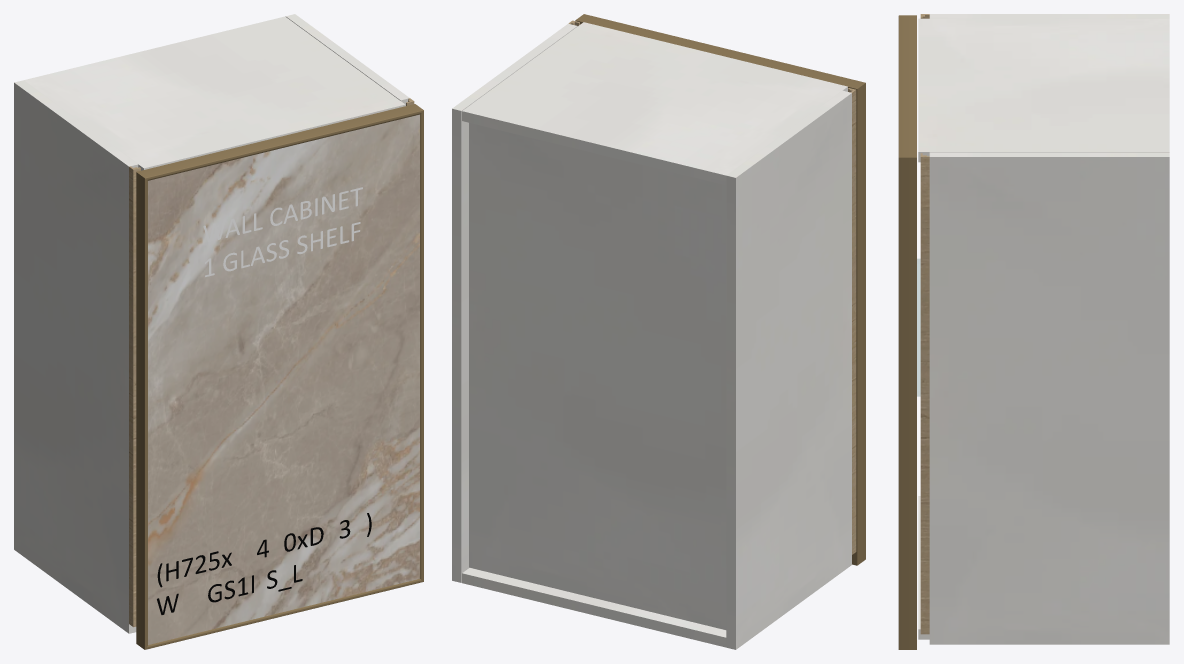
The model's file is WC-SH-NHX-ST-1SG-LHS-XXX-450-725-336-15.glb.
The picture shows the model from 3 angles, left to right: view 1: azimuth 30°, elevation 25°; view 2: azimuth 150°, elevation 25°; view 3: azimuth 270°, elevation 25°; orthographic projection. The views are drawn at different scales.
Parts seen in each view (by area): view 1: Object_node_4, TP_node_0, TP, Extrusion_node_1, Object_node_6, Extrusion, 2D text_node, Extrusion_node, Extrusion_node_0, TP_node_1, 2D text_node_0, 2D text; view 2: TP_node_2, TP_node_0, TP, TP_node_1, Extrusion_node_1, TP_node, Extrusion, Object_node_6; view 3: TP_node_1, TP, Extrusion_node, Object_node_14, Extrusion, TP_node_0, TP_node, Object_node_1.
Boxes of the visible parts, x1,y1,x2,y2 form: Object_node_4: (148,114,419,644); TP_node_0: (14,80,138,633); TP: (24,16,405,170); Extrusion_node_1: (136,172,147,649); Object_node_6: (129,166,140,627); Extrusion: (136,104,423,180); 2D text_node: (203,187,362,276); Extrusion_node: (420,110,423,581); Extrusion_node_0: (145,579,423,649); TP_node_1: (285,14,409,105); 2D text_node_0: (157,513,371,587); 2D text: (157,565,302,614); TP_node_2: (469,123,726,629); TP_node_0: (726,90,851,649); TP: (462,22,847,185); TP_node_1: (452,23,577,582); Extrusion_node_1: (852,83,865,565); TP_node: (462,568,726,647); Extrusion: (575,14,865,89); Object_node_6: (848,88,856,554); TP_node_1: (929,152,1169,644); TP: (918,18,1169,162); Extrusion_node: (898,157,916,649); Object_node_14: (920,153,929,634); Extrusion: (898,15,916,157); TP_node_0: (929,14,1169,18); TP_node: (918,496,929,639); Object_node_1: (917,259,919,395).
Size of what is drawn, in the model's own units: 0.45 by 0.7235 by 0.366.
7 materials, 3 textured.
